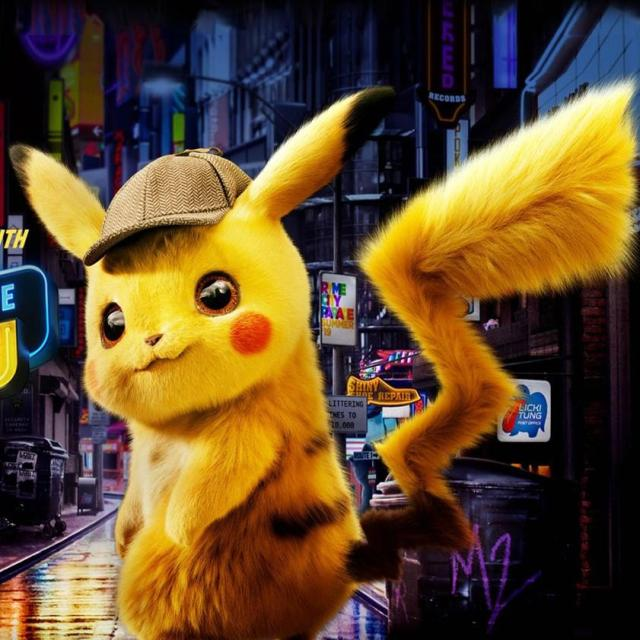pikachu: (10, 84, 634, 640)
